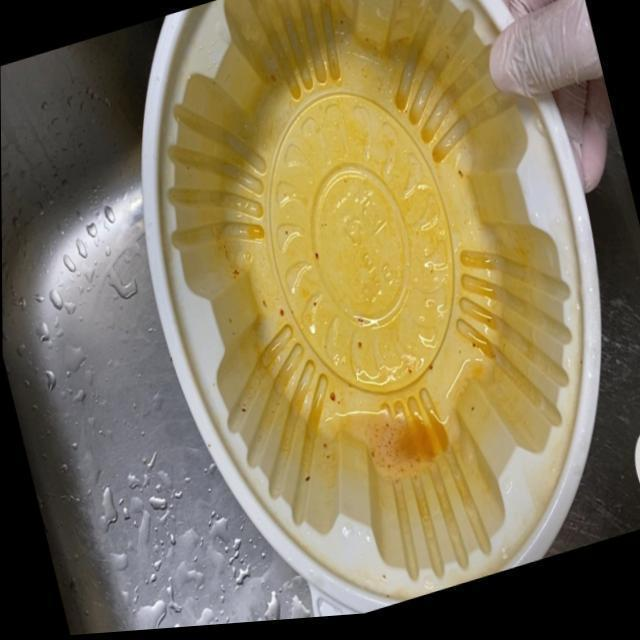disposable: (126, 0, 614, 631)
